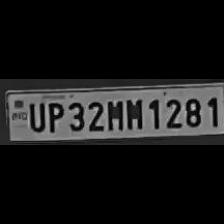1: (204, 94, 222, 128), (144, 96, 160, 130)
2: (162, 94, 182, 130), (86, 98, 104, 132)
3: (65, 98, 85, 132)
8: (182, 94, 202, 128)
M: (105, 96, 124, 132), (124, 96, 144, 130)
P: (45, 99, 63, 133)
U: (26, 98, 44, 132)
